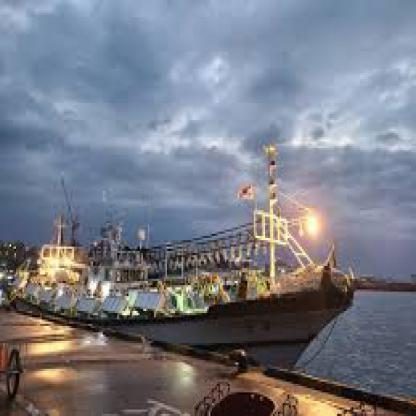fish-b: (0, 131, 363, 390)
